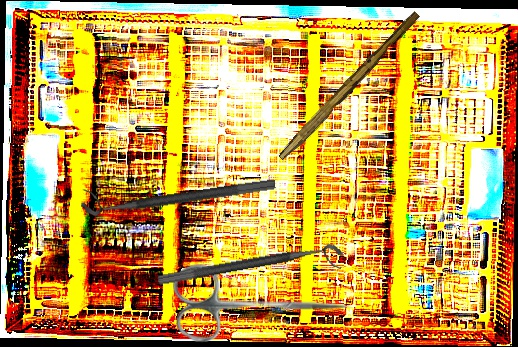Fixation Ring: (157, 241, 346, 301), (79, 162, 276, 218)
Iris Scissors: (173, 264, 351, 343)
Scalpel Handle: (277, 7, 422, 166)
